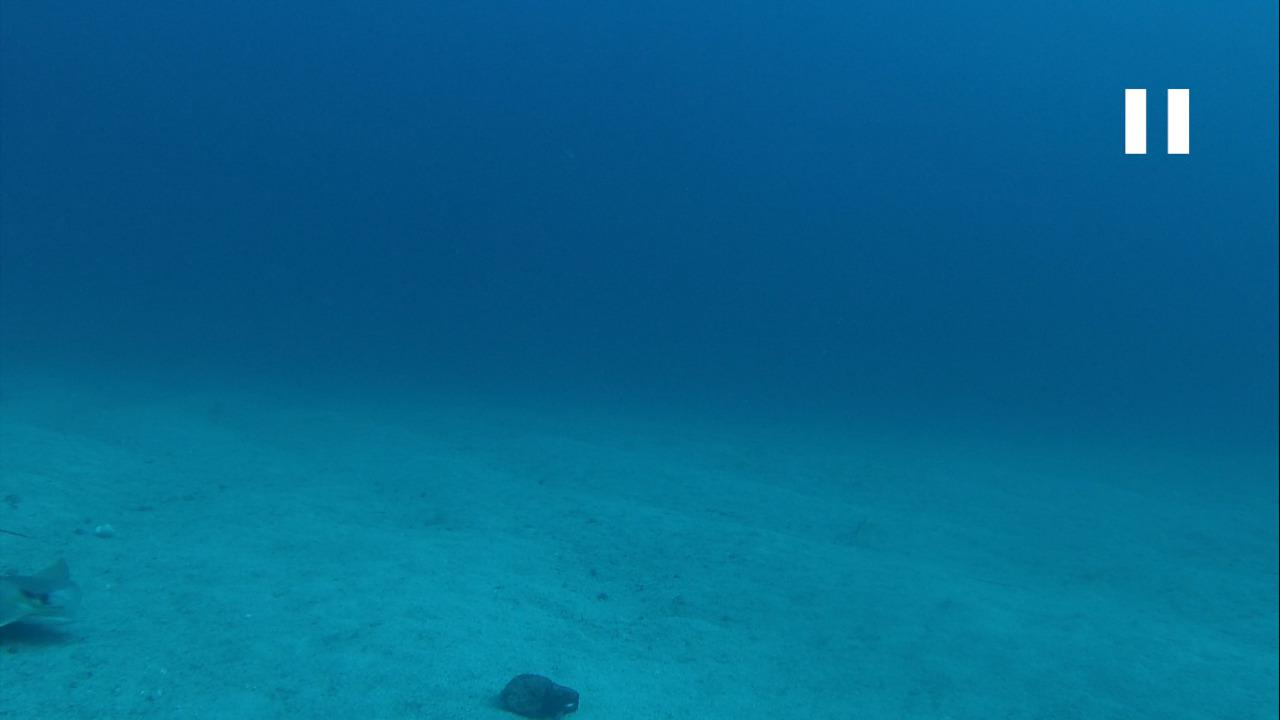myliobatis: (6, 545, 89, 651)
